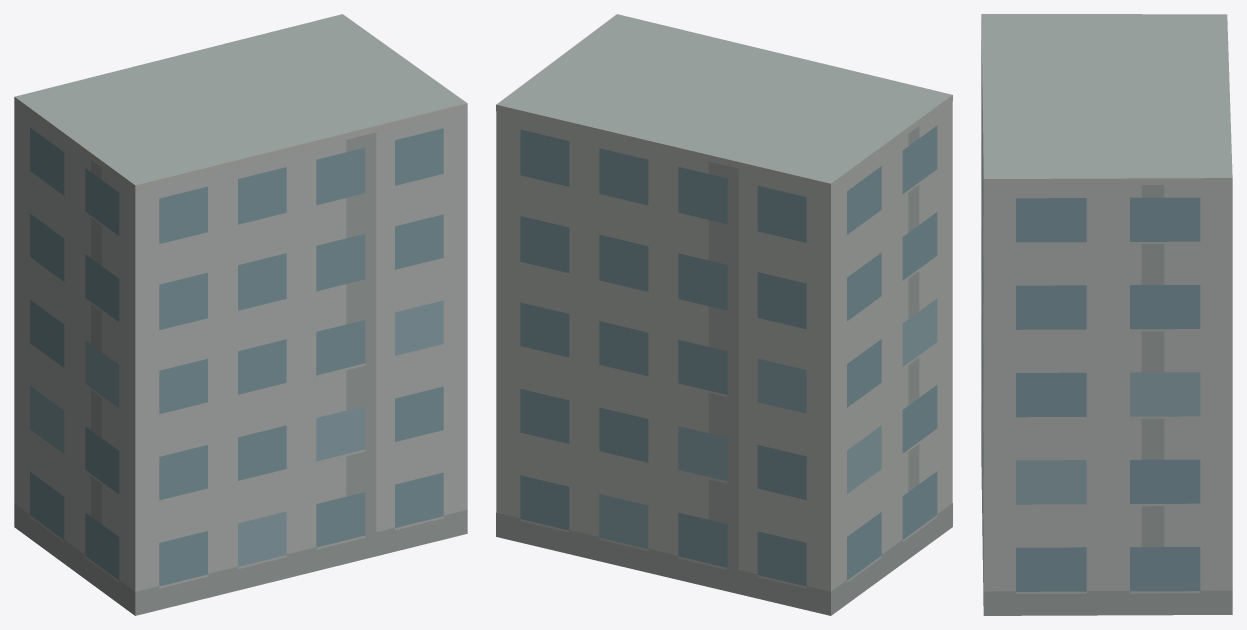
File: survey-upis-32891727.glb
3 views of the same model, side by side, from view 1: azimuth 30°, elevation 25°; view 2: azimuth 150°, elevation 25°; view 3: azimuth 270°, elevation 25° (orthographic).
Parts seen in each view (by area): view 1: survey-upis-32891727.tmp; view 2: survey-upis-32891727.tmp; view 3: survey-upis-32891727.tmp.
Part boxes in pixels (left/top/right/bottom): survey-upis-32891727.tmp: left=14, top=14, right=467, bottom=615; survey-upis-32891727.tmp: left=496, top=14, right=952, bottom=615; survey-upis-32891727.tmp: left=981, top=14, right=1232, bottom=615.
Size of the model in its own units: 12.98 by 16 by 8.35.
